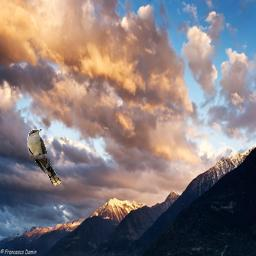Cuckoo: (27, 129, 61, 186)
